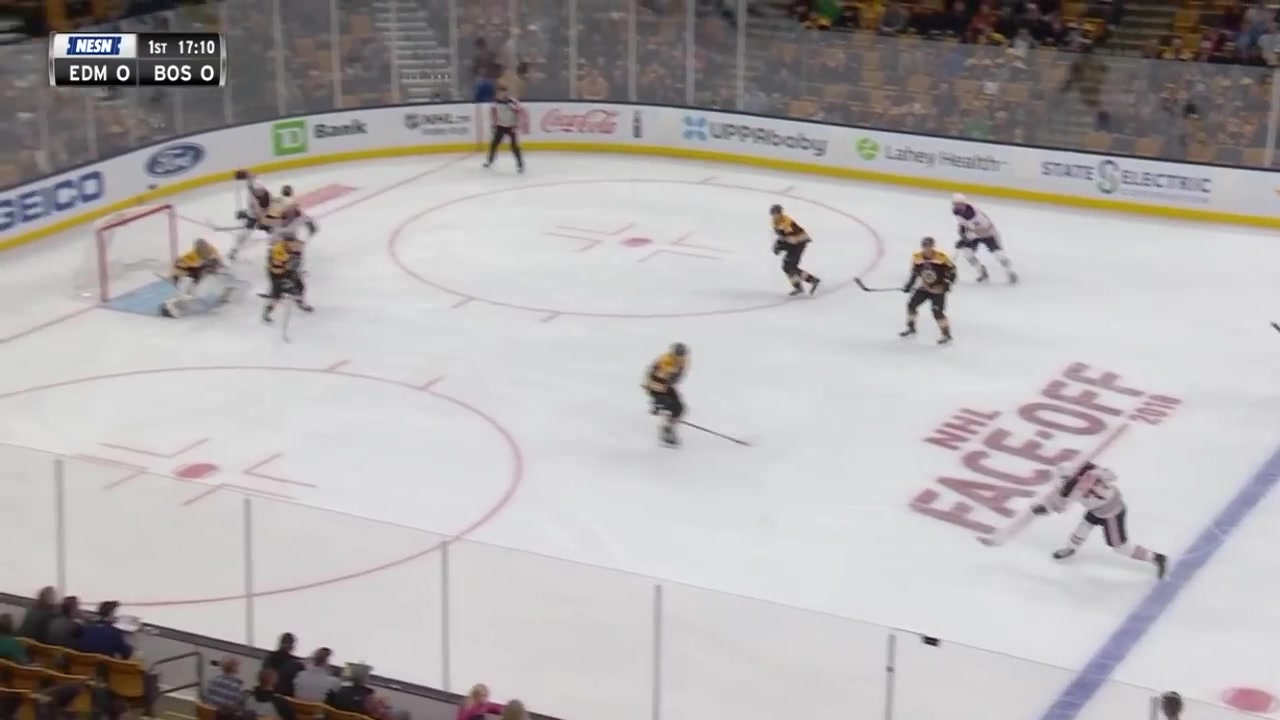Geico: (1, 147, 113, 251)
